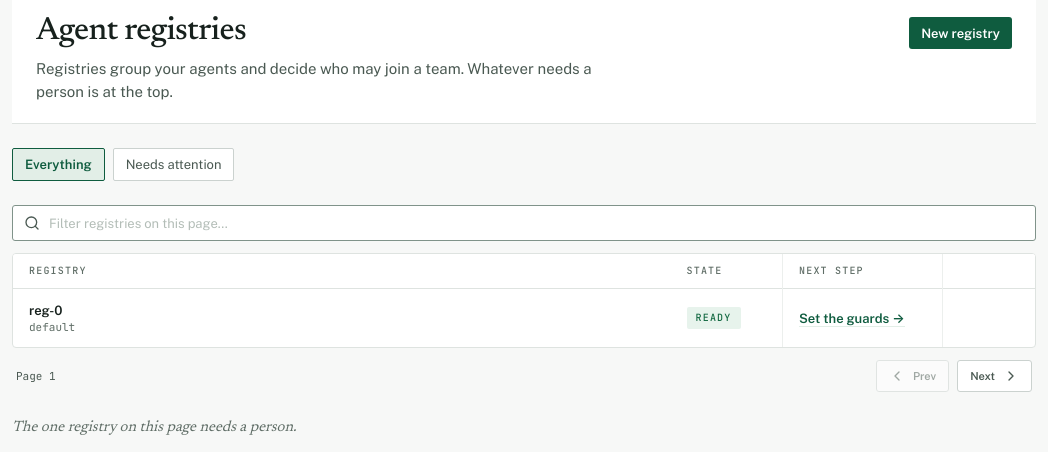
Test: AgentRegistriesPage — list › paginates with cursor
Expected: the text "reg-0" is shown, [29,303,62,318]
What coordinates should you click on to do the following:
click the button with aria-label "Next page"
I would click on:
 (995, 376)
Its box is [957,360,1032,392].
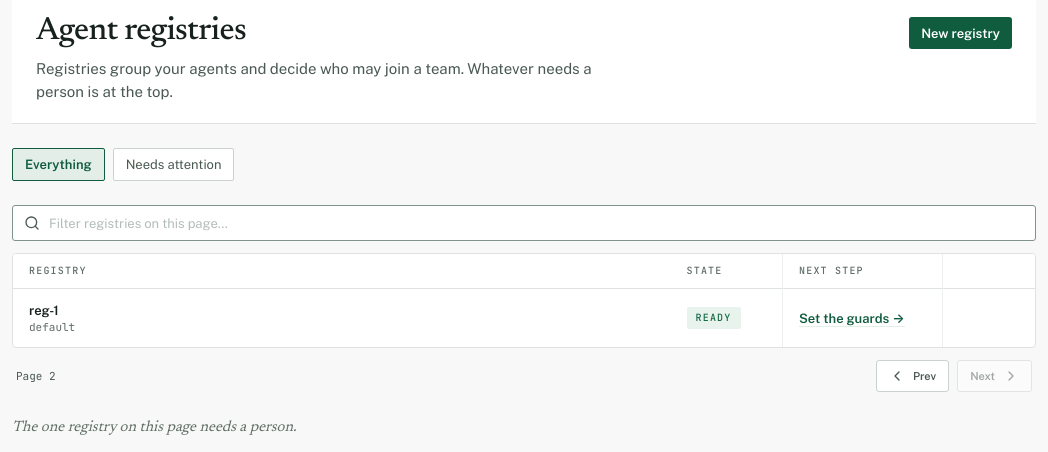
Expected: the text "reg-1" is shown, [29,303,59,318]
